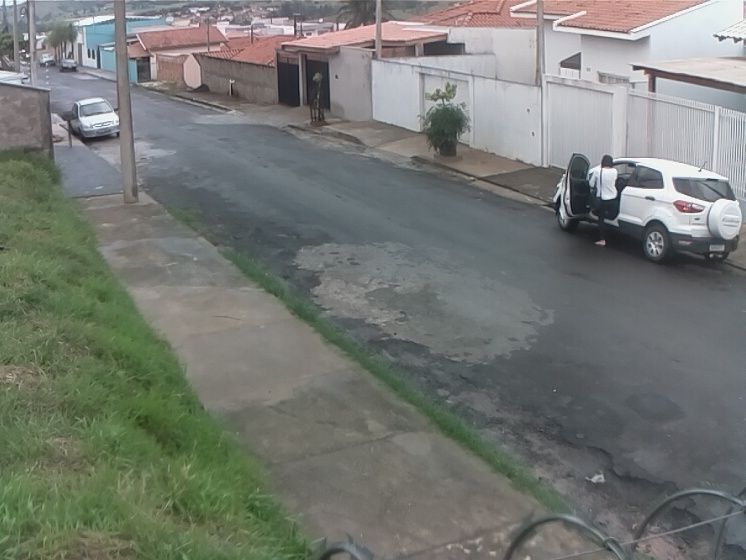person: (586, 150, 621, 249)
